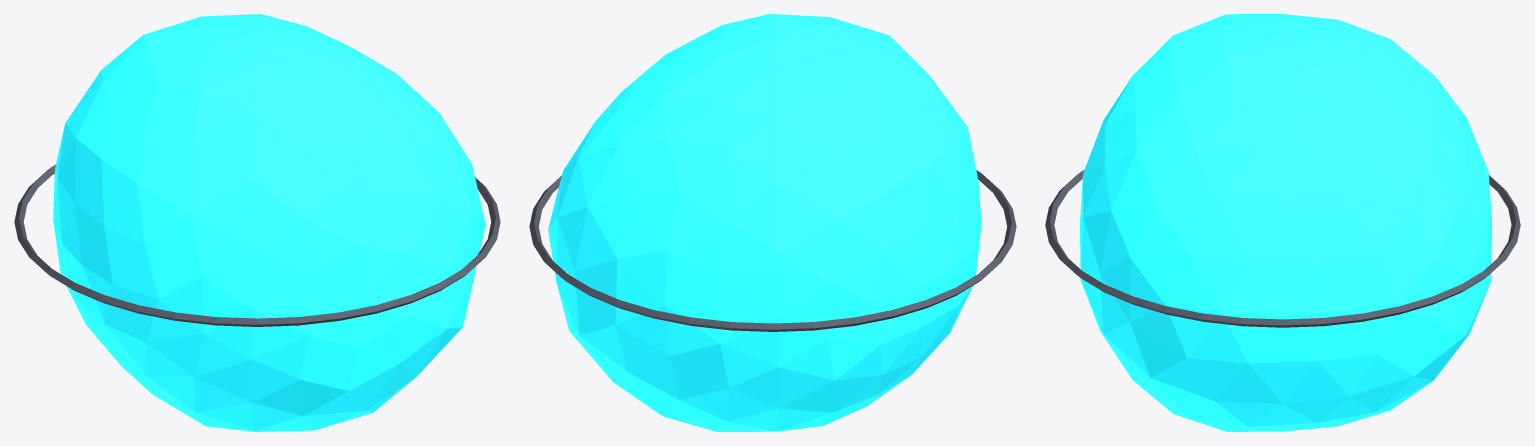
File: aether-core.glb
3 renders of one model, left to right at view 1: azimuth 30°, elevation 25°; view 2: azimuth 150°, elevation 25°; view 3: azimuth 270°, elevation 25°, orthographic. The views are drawn at different scales.
Parts seen in each view (by area): view 1: core-shell, core-cage; view 2: core-shell, core-cage; view 3: core-shell, core-cage.
Boxes of the visible parts, x1,y1,x2,y2 form: core-shell: [53, 14, 485, 431]; core-cage: [14, 164, 500, 326]; core-shell: [548, 14, 981, 431]; core-cage: [529, 170, 1016, 331]; core-shell: [1080, 14, 1492, 431]; core-cage: [1045, 170, 1520, 327].
Size of the model in its own units: 2.28 by 1.95 by 2.28.
